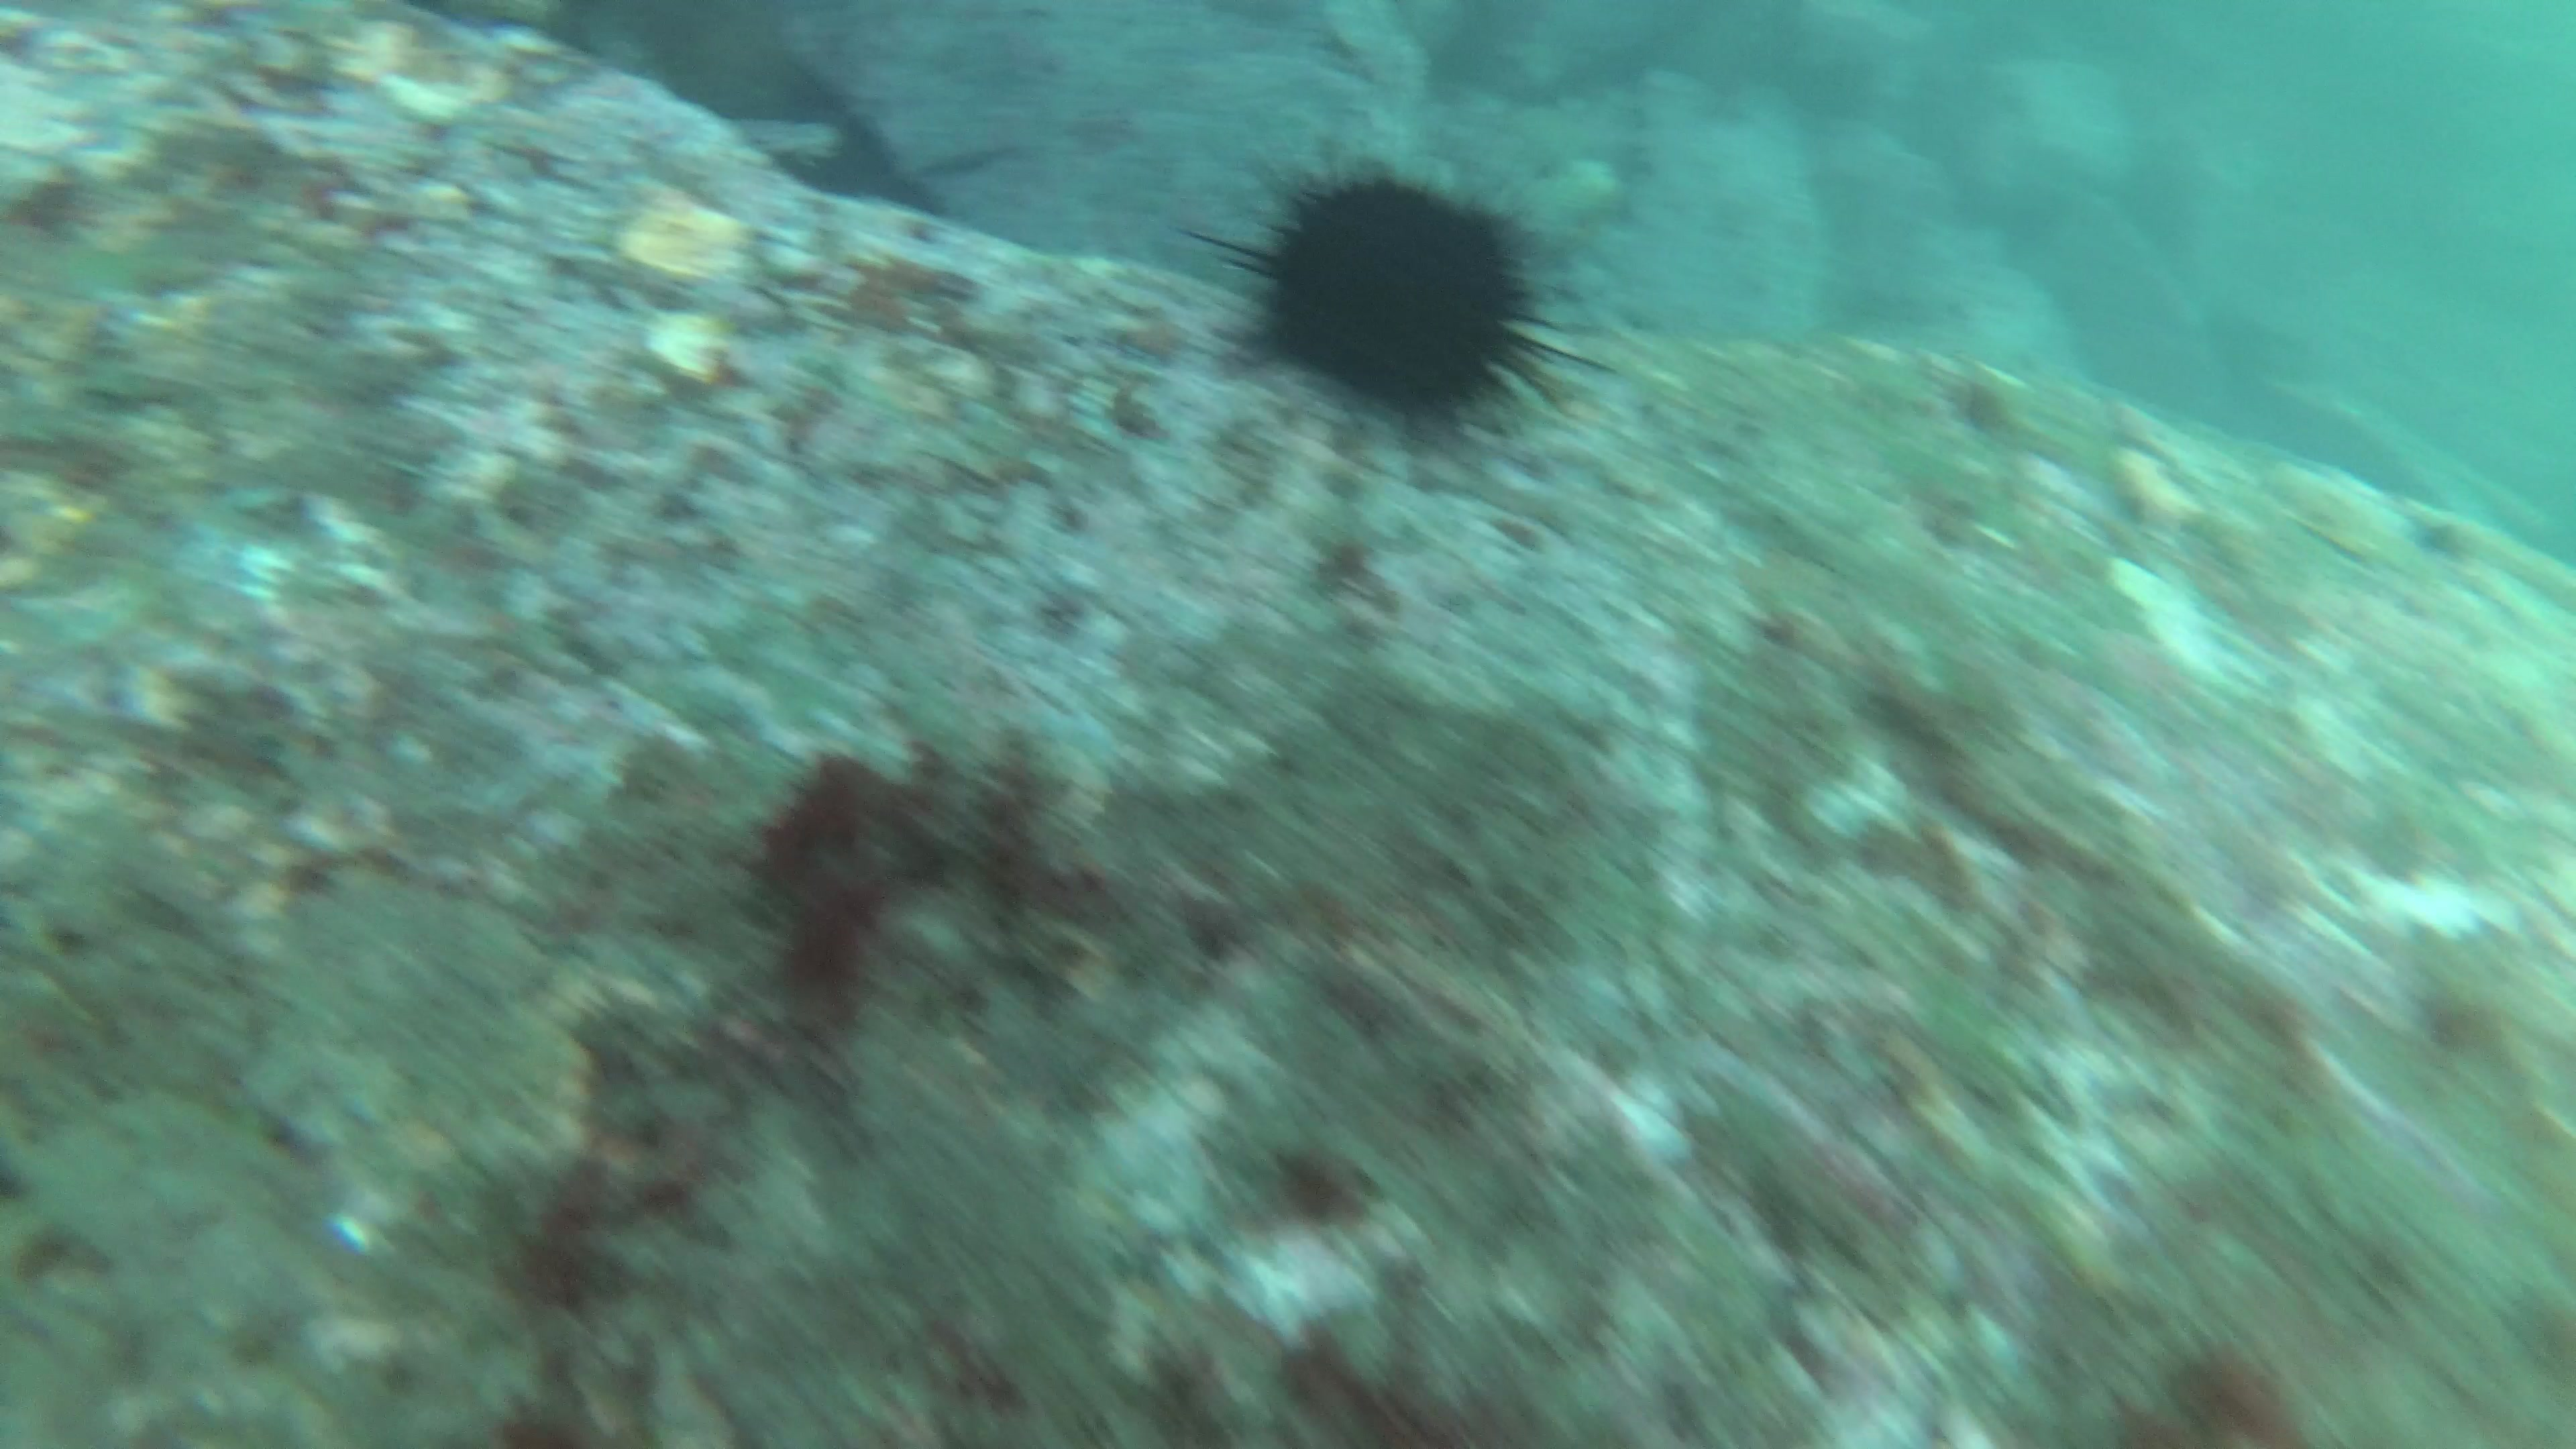starfish: (1238, 134, 1571, 414)
